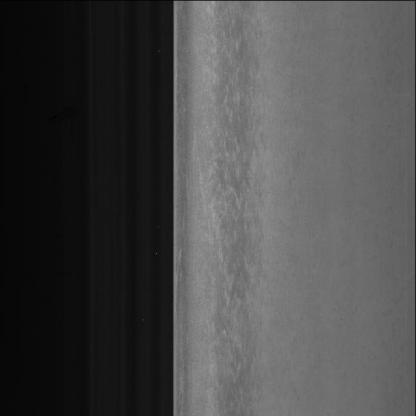silk_spot: (217, 0, 276, 356)
